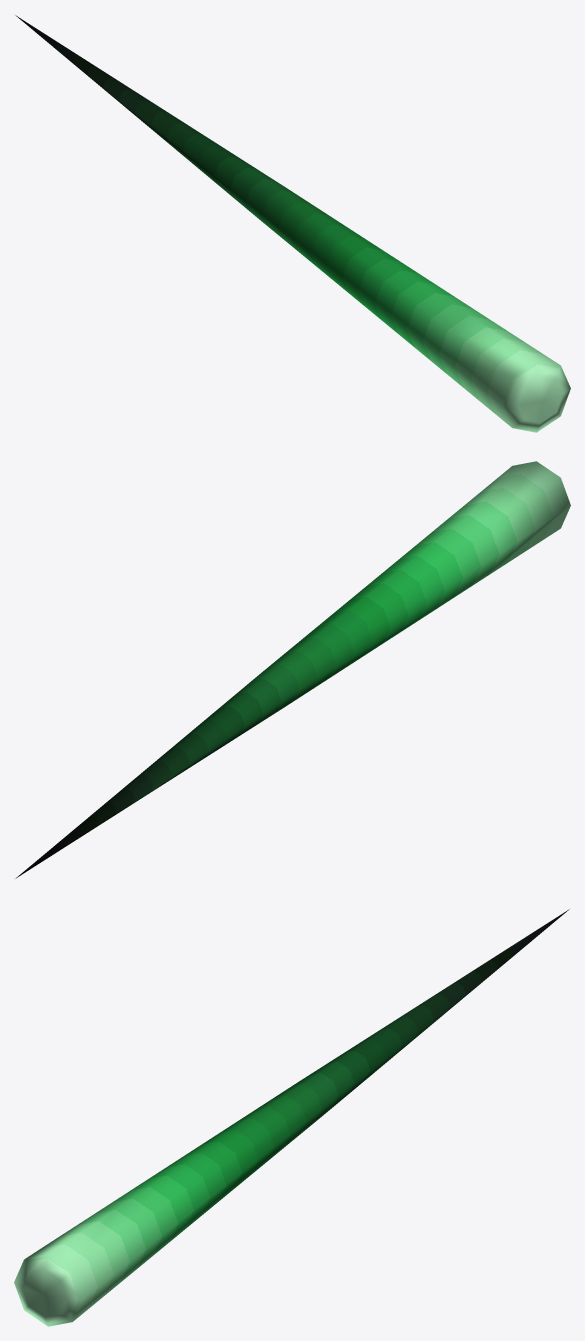
The model's file is Tracer1G.glb.
3 views of the same model, one above another, from view 1: azimuth 30°, elevation 25°; view 2: azimuth 150°, elevation 25°; view 3: azimuth 330°, elevation 25° (orthographic).
Visible parts, largest first — view 1: _Tracer1G; view 2: _Tracer1G; view 3: _Tracer1G.
Boxes of the visible parts, x1,y1,x2,y2 form: _Tracer1G: (15, 15, 570, 432); _Tracer1G: (15, 461, 570, 878); _Tracer1G: (14, 909, 569, 1326).
Size of the model in its own units: 0.6 by 0.6 by 8.
1 material, 1 textured.
